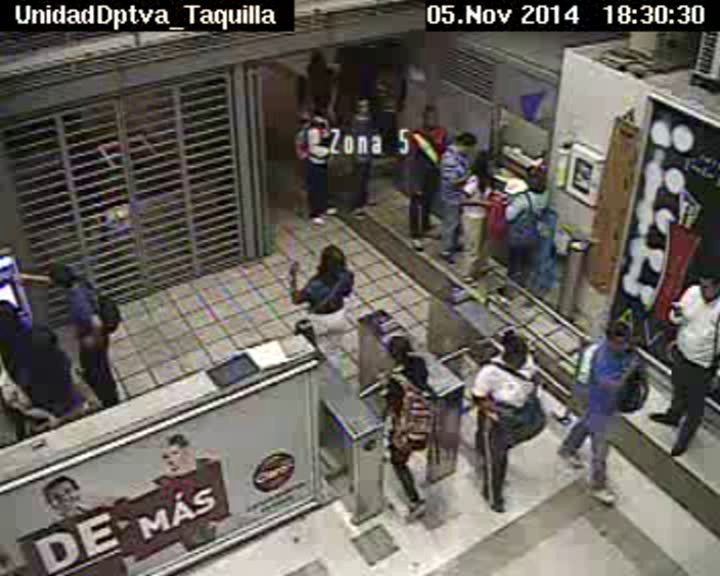person: (495, 331, 531, 369), (601, 318, 633, 357), (27, 325, 58, 357), (319, 244, 349, 275), (694, 266, 720, 301), (385, 335, 414, 364), (49, 264, 78, 292), (473, 150, 499, 179), (521, 163, 548, 190), (417, 103, 443, 130), (452, 127, 476, 154), (1, 303, 21, 332), (351, 95, 375, 118), (310, 100, 332, 123), (309, 49, 329, 70), (380, 59, 394, 74)
